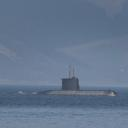submarine: (15, 67, 120, 98)
